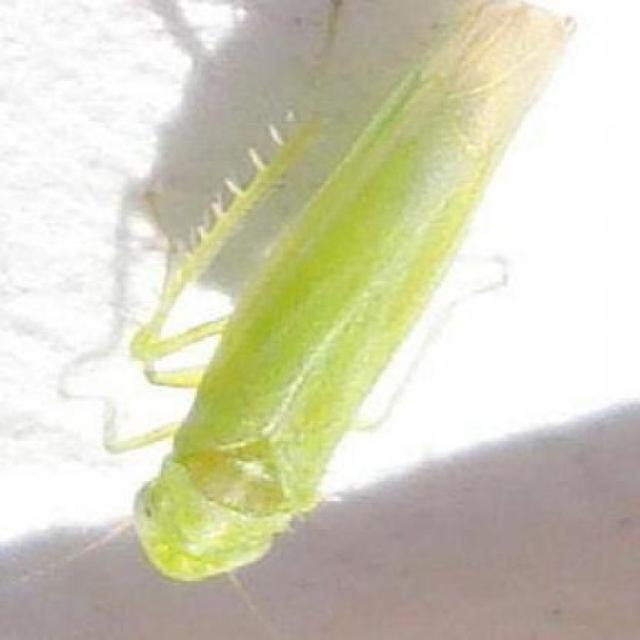green-leafhopper: (93, 6, 580, 582)
